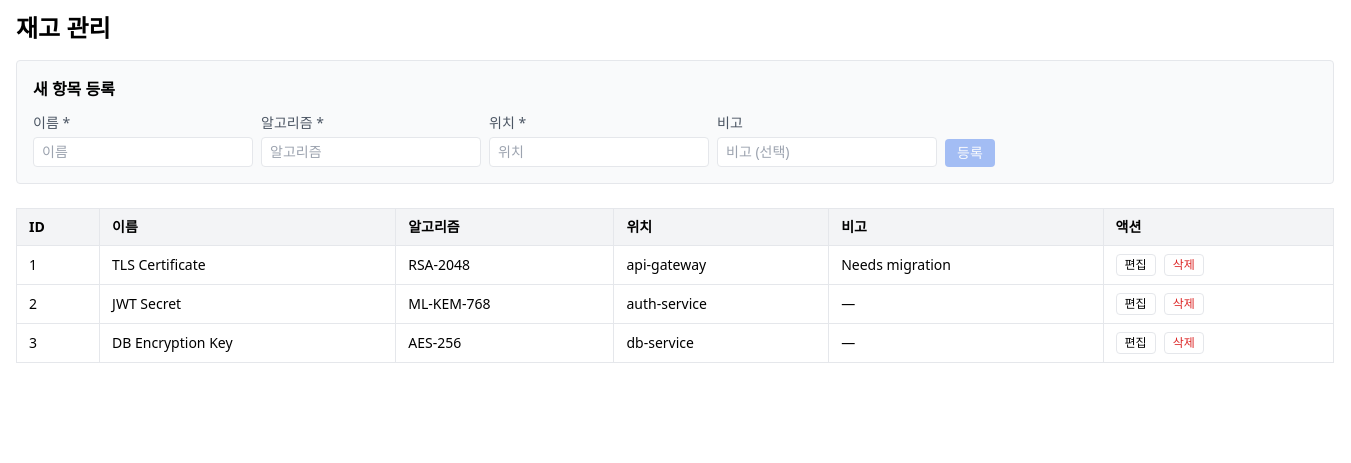
Test: InventoryPage › 편집 실패(500) 시 에러 메시지 표시 + 롤백
The width and height of the screenshot is (1351, 463).
Expected: the text "TLS Certificate" is shown, top-left (100, 246), bottom-right (396, 284)
Step 1. Click the button with aria-label "편집 TLS Certificate" → (1136, 265), box top-left (1116, 254), bottom-right (1156, 276)
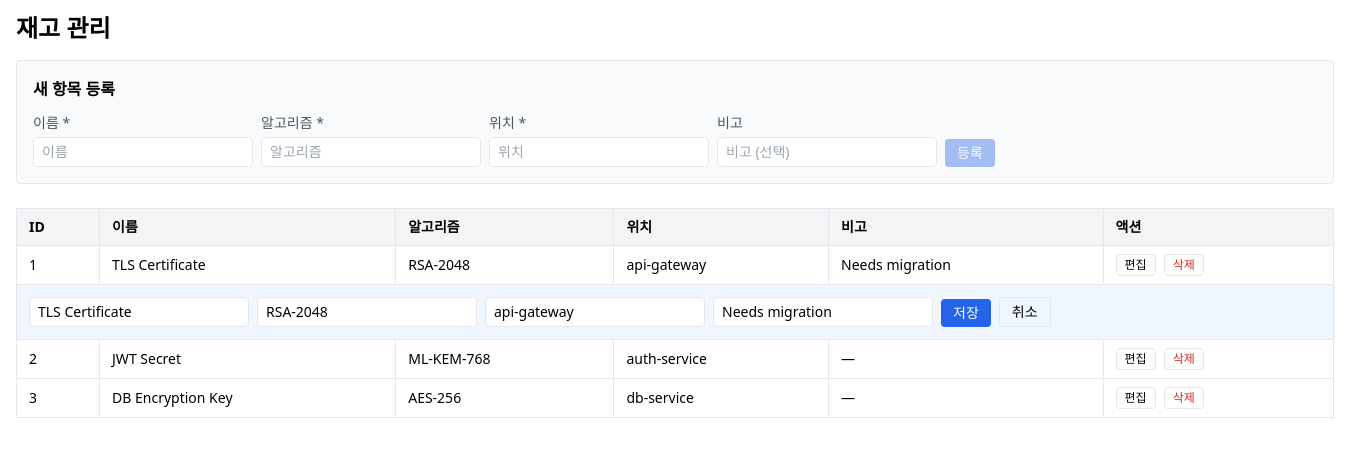
Step 2. Replace the text in the field named "편집 이름" with "Should Rollback" → (139, 312), box top-left (29, 297), bottom-right (249, 327)
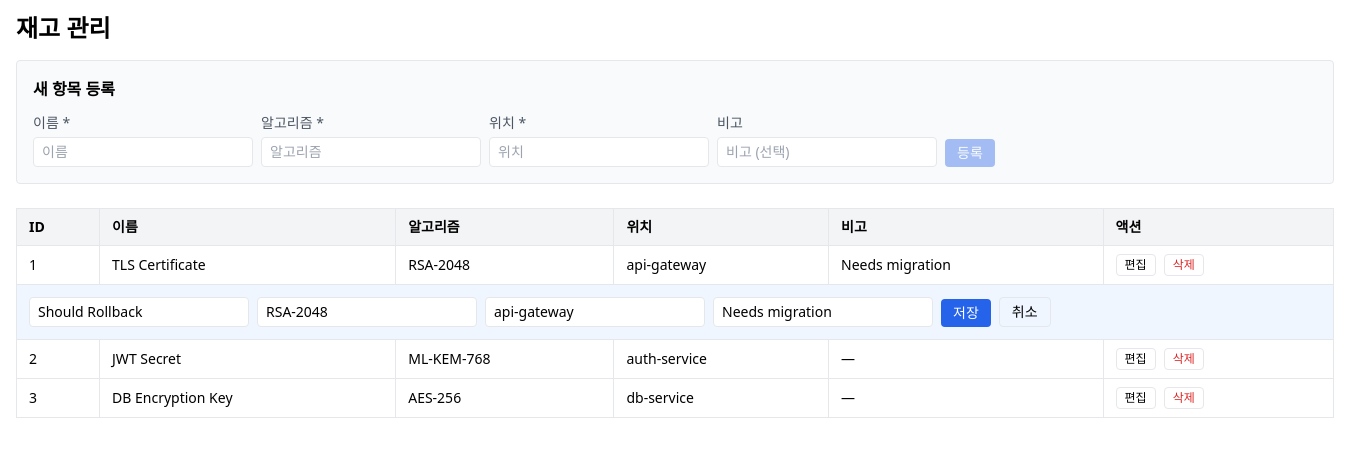
Step 3. Click the button "저장" → (966, 313), box top-left (941, 299), bottom-right (991, 327)
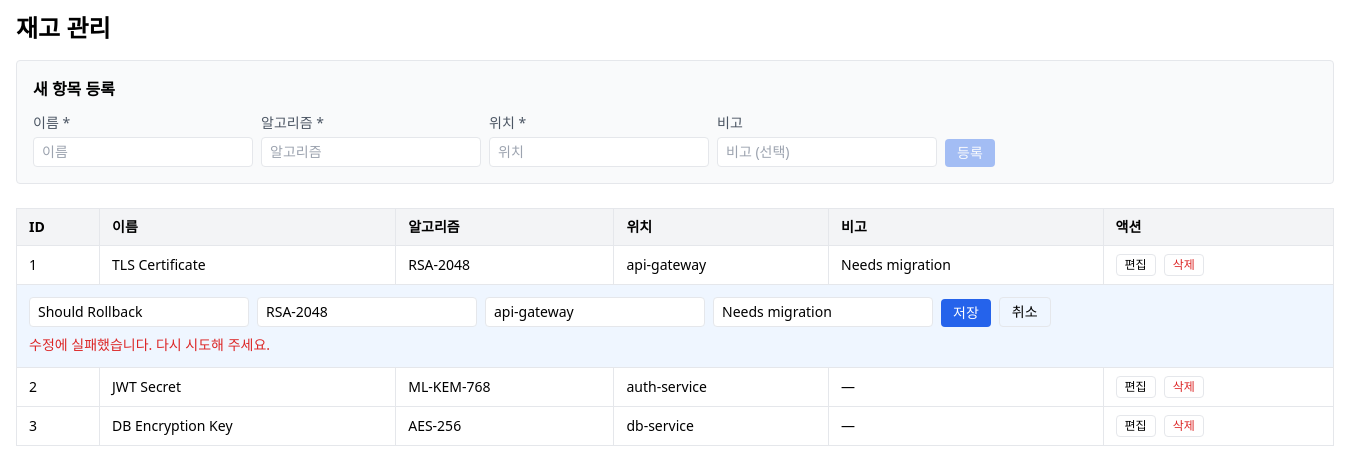
Expected: the text "TLS Certificate" is shown, top-left (100, 246), bottom-right (396, 284)
Expected: the text "수정에 실패했습니다. 다시 시도해 주세요." is shown, top-left (29, 335), bottom-right (270, 354)
